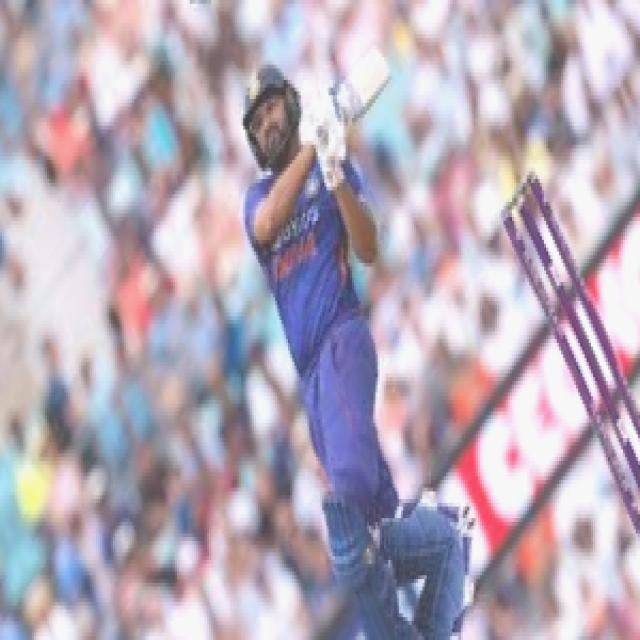toe: (373, 42, 390, 90)
